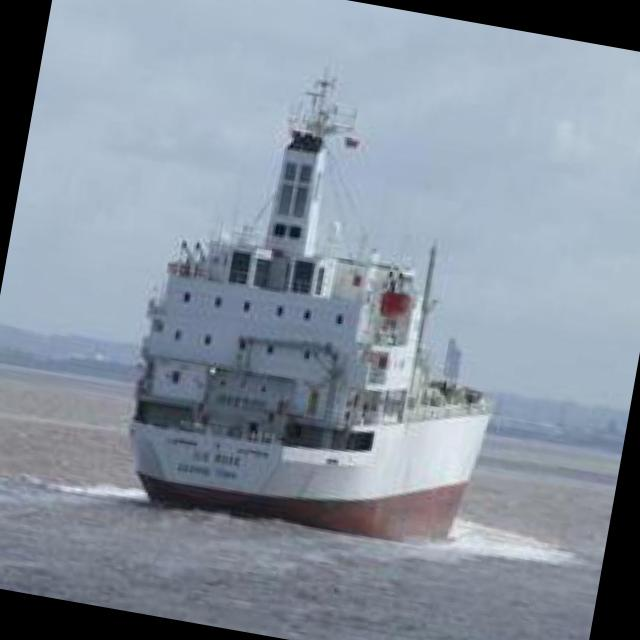boat: (88, 101, 532, 567)
